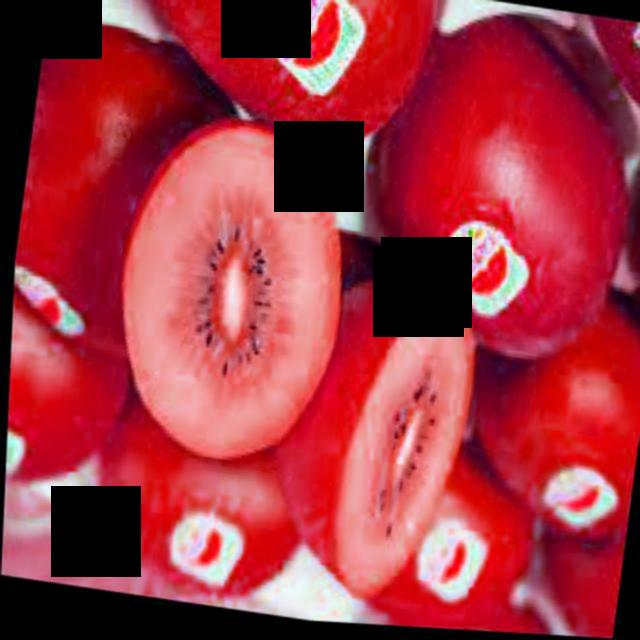kiwi: (362, 38, 640, 393), (112, 2, 408, 172), (439, 328, 640, 555)
